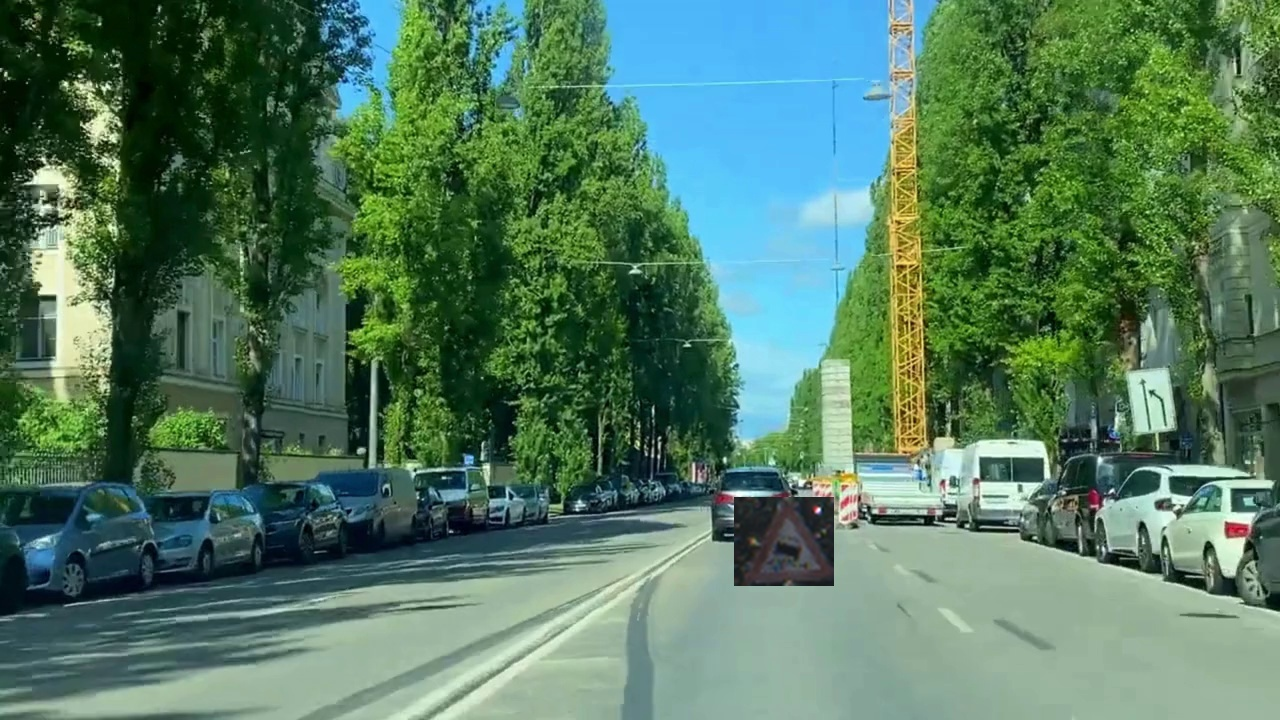Slippery: (734, 497, 834, 586)
